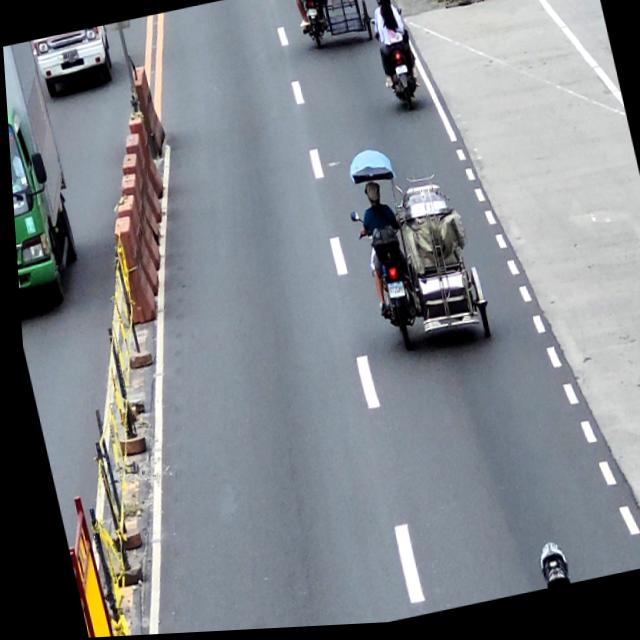Car: (31, 26, 116, 99)
License-Plate: (382, 284, 402, 304), (60, 49, 80, 66), (393, 69, 408, 80), (307, 11, 318, 21)
Motorcycle: (369, 9, 423, 118)
Tricycle: (339, 152, 490, 367), (295, 0, 373, 54)
Truck: (2, 38, 90, 315)
